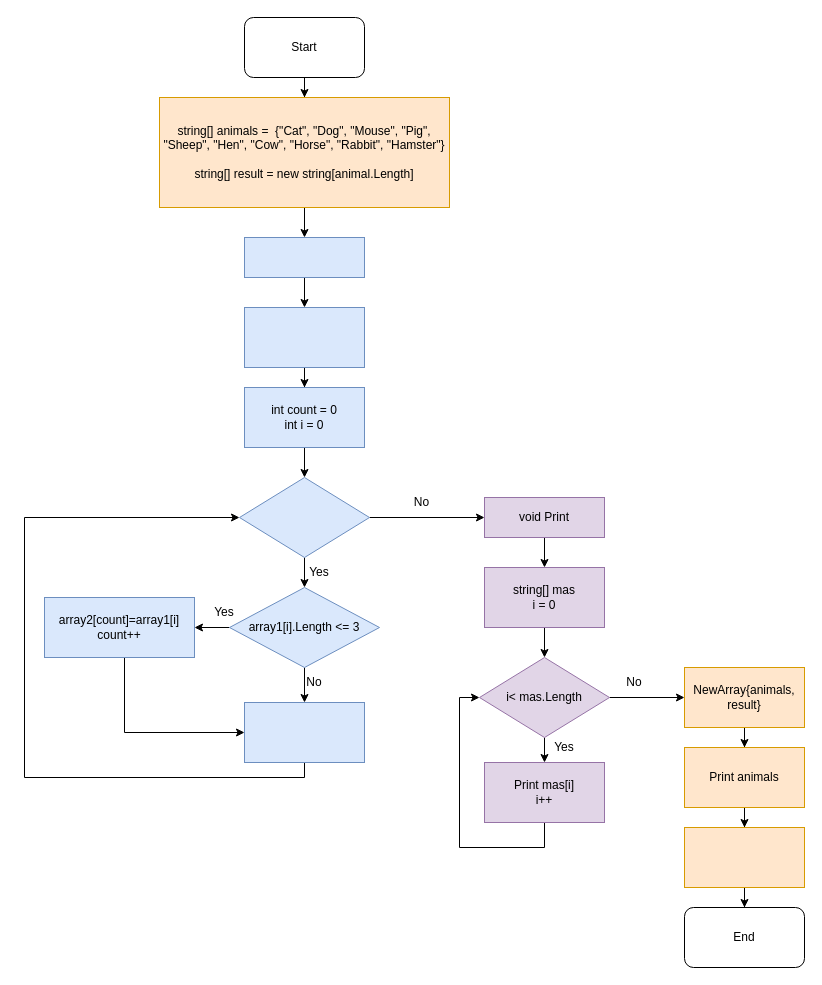
This 822x985 diagram has some shape labels left out. Here are the shapes that lost their labels. From the top down, the centre of each, then its label:
At pixel 304 257: "void NewArray".
At pixel 304 337: "string[] array1 string[] array2".
At pixel 304 517: "i< array1.Length".
At pixel 304 732: "i++".
At pixel 744 857: "Print result".
